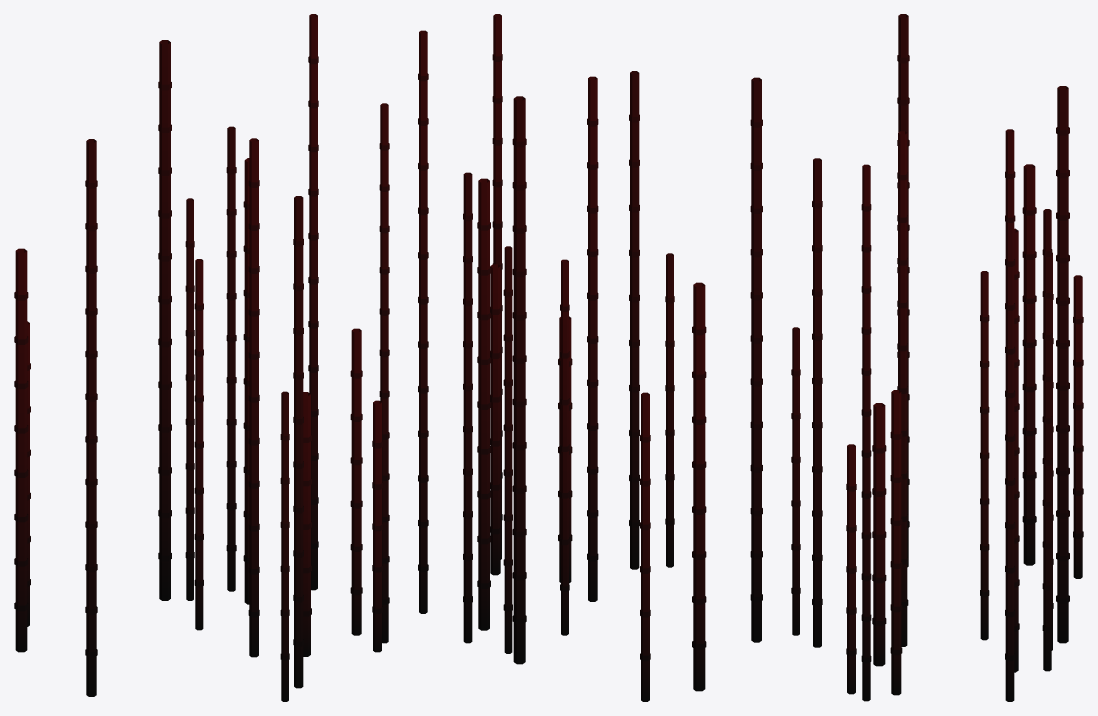
Rendered from horsetail_v1.fbx.
3 renders of one model, left to right at view 1: azimuth 30°, elevation 25°; view 2: azimuth 150°, elevation 25°; view 3: azimuth 270°, elevation 25°, orthographic.
Visible parts, largest first — view 1: horsetail_v1; view 2: horsetail_v1; view 3: horsetail_v1.
Boxes of the visible parts, <box> form: horsetail_v1: <box>14,14,389,701</box>; horsetail_v1: <box>418,14,762,701</box>; horsetail_v1: <box>791,14,1083,701</box>.
Size of the model in its own units: 44.5 by 83.58 by 38.84.
